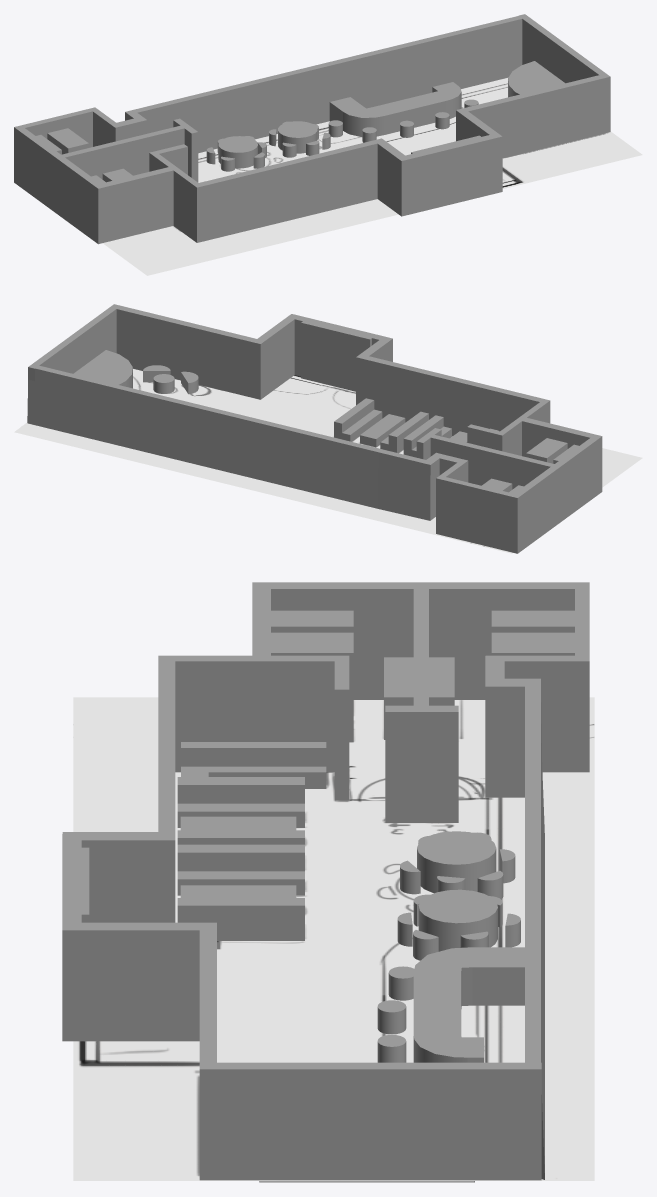
Rendered from Blocking Enviroment.fbx.
The picture shows the model from 3 angles, top to bottom: view 1: azimuth 30°, elevation 25°; view 2: azimuth 150°, elevation 25°; view 3: azimuth 270°, elevation 25°; orthographic projection. The views are drawn at different scales.
Parts seen in each view (by area): view 1: Blocking, Piso; view 2: Blocking, Piso; view 3: Blocking, Piso.
Boxes of the visible parts, x1,y1,x2,y2 form: Blocking: [14, 14, 610, 244]; Piso: [103, 78, 642, 275]; Blocking: [27, 304, 602, 553]; Piso: [14, 369, 642, 553]; Blocking: [62, 582, 589, 1182]; Piso: [73, 697, 594, 1180].
Bounding box in the file's own units: 778 × 89.36 × 358.
